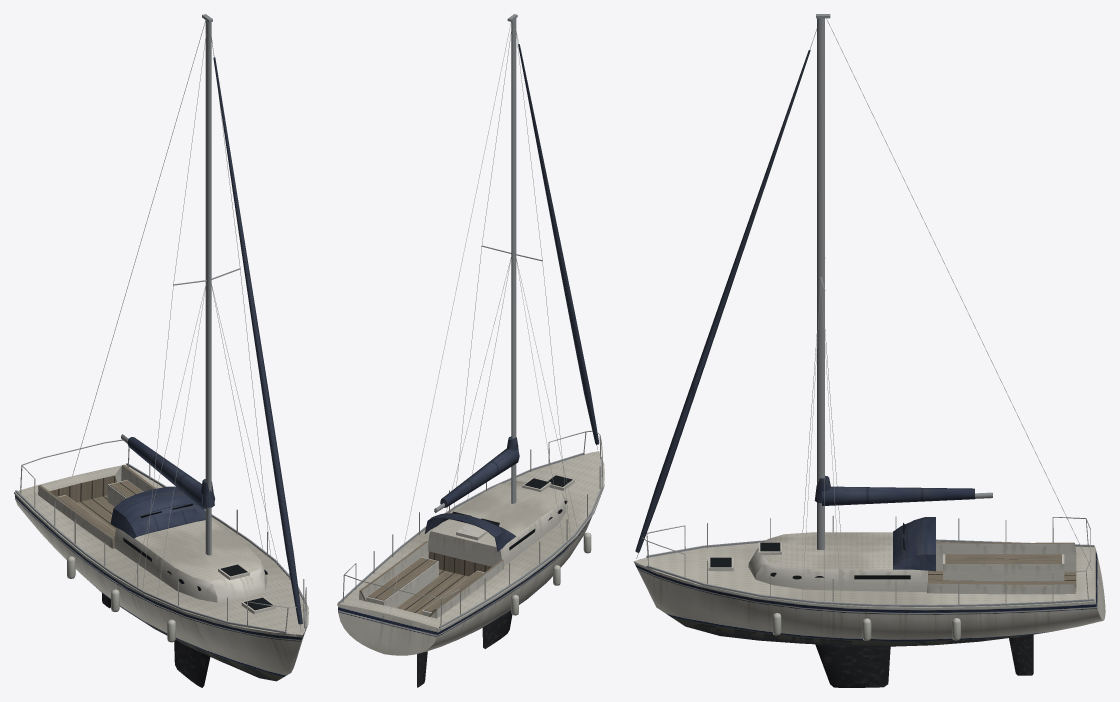
File: sailYacht-a-lod1.glb
The picture shows the model from 3 angles, left to right: view 1: azimuth 30°, elevation 25°; view 2: azimuth 150°, elevation 25°; view 3: azimuth 270°, elevation 25°; orthographic projection. The views are drawn at different scales.
Parts seen in each view (by area): view 1: Hull, Superstructure, Rig, Gear; view 2: Hull, Superstructure, Rig, Gear; view 3: Hull, Superstructure, Rig, Gear.
Part boxes in pixels (x1=…): Hull: x1=14, y1=463, x2=308, y2=687; Superstructure: x1=57, y1=480, x2=275, y2=614; Rig: x1=72, y1=14, x2=302, y2=631; Gear: x1=20, y1=439, x2=306, y2=642; Hull: x1=337, y1=451, x2=604, y2=687; Superstructure: x1=366, y1=475, x2=574, y2=616; Rig: x1=390, y1=14, x2=599, y2=611; Gear: x1=342, y1=430, x2=602, y2=625; Hull: x1=633, y1=539, x2=1105, y2=687; Superstructure: x1=708, y1=517, x2=1064, y2=591; Rig: x1=635, y1=14, x2=1092, y2=602; Gear: x1=642, y1=515, x2=1090, y2=640.
Size of the model in its own units: 3.81 by 16.53 by 10.52.
1 material, 1 textured.
